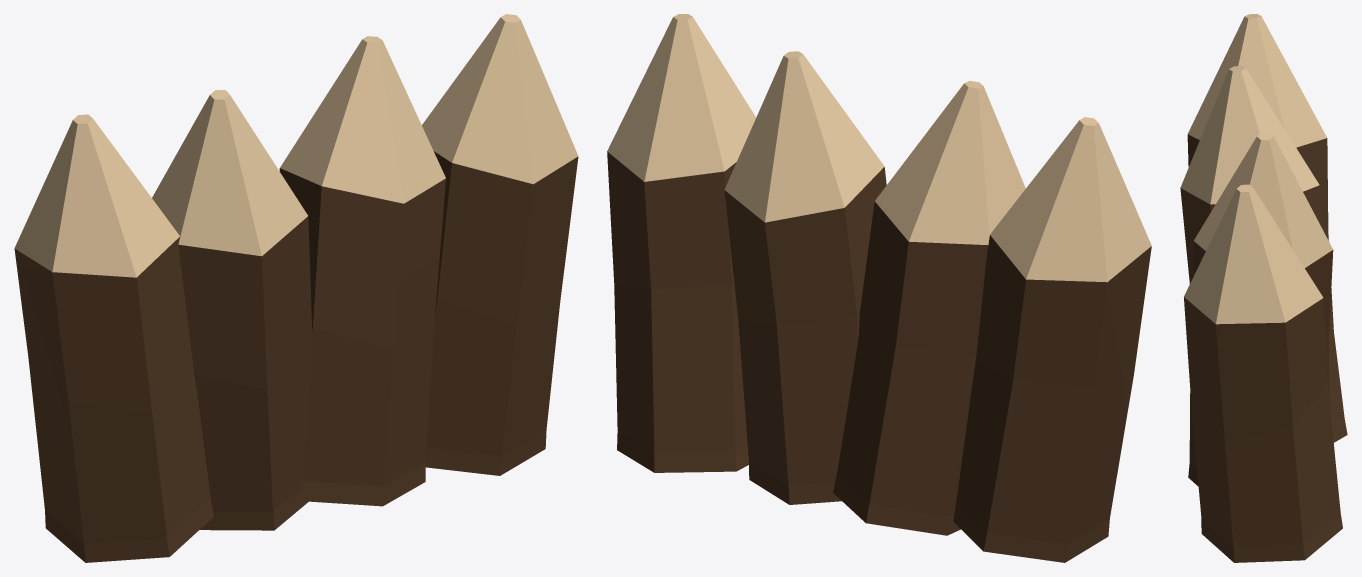
Rendered from ExplodedWoodenWall.fbx.
3 views of the same model, side by side, from view 1: azimuth 30°, elevation 25°; view 2: azimuth 150°, elevation 25°; view 3: azimuth 270°, elevation 25° (orthographic). The views are drawn at different scales.
Parts seen in each view (by area): view 1: WoodenWall#1.002, WoodenWall#1.001, WoodenWall#1.003, WoodenWall#1.004; view 2: WoodenWall#1.002, WoodenWall#1.003, WoodenWall#1.004, WoodenWall#1.001; view 3: WoodenWall#1.003, WoodenWall#1.004, WoodenWall#1.001, WoodenWall#1.002.
Boxes of the visible parts, <box> form: WoodenWall#1.002: <box>14,114,213,562</box>; WoodenWall#1.001: <box>279,36,445,506</box>; WoodenWall#1.003: <box>422,14,578,475</box>; WoodenWall#1.004: <box>152,90,312,530</box>; WoodenWall#1.002: <box>953,117,1151,562</box>; WoodenWall#1.003: <box>607,14,756,472</box>; WoodenWall#1.004: <box>833,81,1025,535</box>; WoodenWall#1.001: <box>724,51,886,504</box>; WoodenWall#1.003: <box>1184,184,1342,562</box>; WoodenWall#1.004: <box>1180,66,1347,442</box>; WoodenWall#1.001: <box>1188,132,1333,486</box>; WoodenWall#1.002: <box>1187,14,1333,330</box>.
Size of the model in its own units: 968 by 768 by 319.
